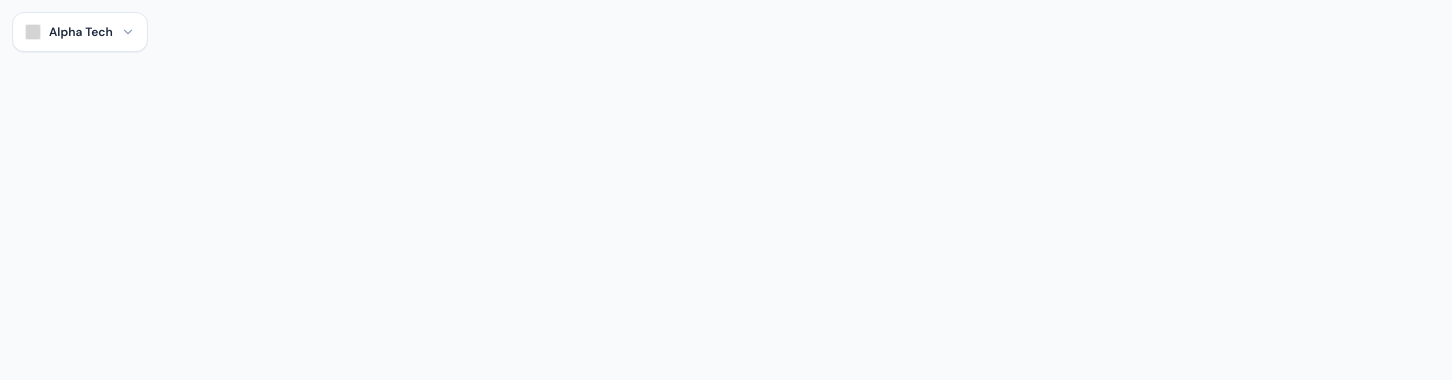
Test case: CompanySelector › renders selected company trade name and switches companies
Later steps or results of the test are not shown.
Click the button with test id "company-selector-trigger": (80, 32) [12,12,148,52]
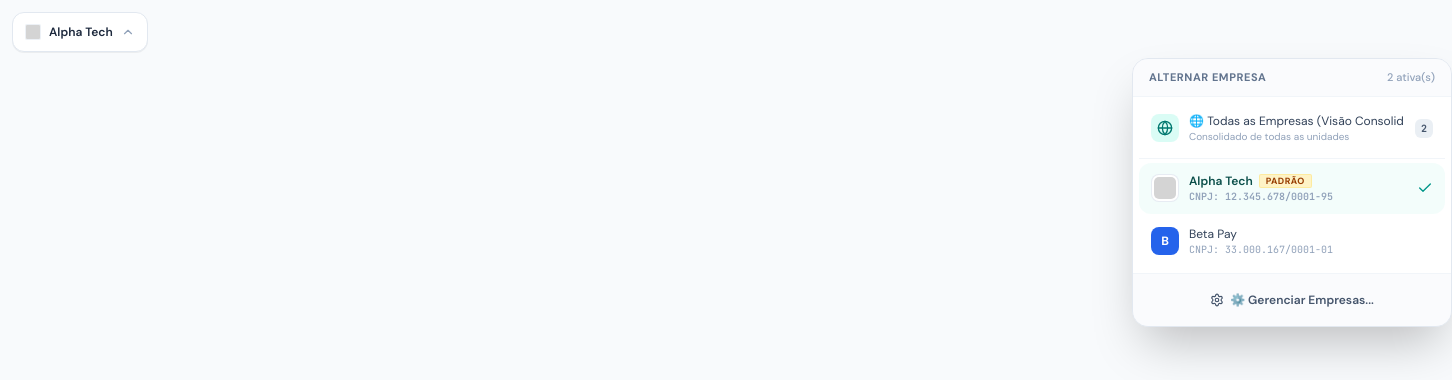
Check: the list with test id "company-selector-dropdown" is shown, box [1132,58,1451,326]
